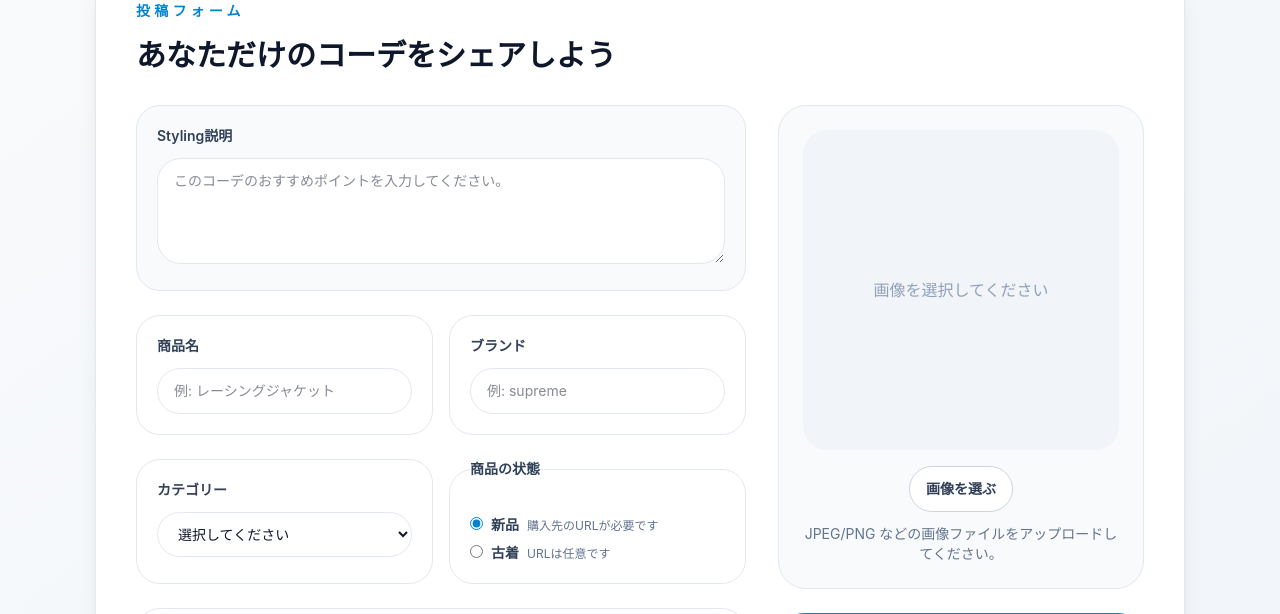
Test: ItemUpload の商品追加 › 古着はURLが無くても追加できる
Type "ヴィンテージT" into the field labelled "商品名" at [284, 391], box [157,368,412,414]
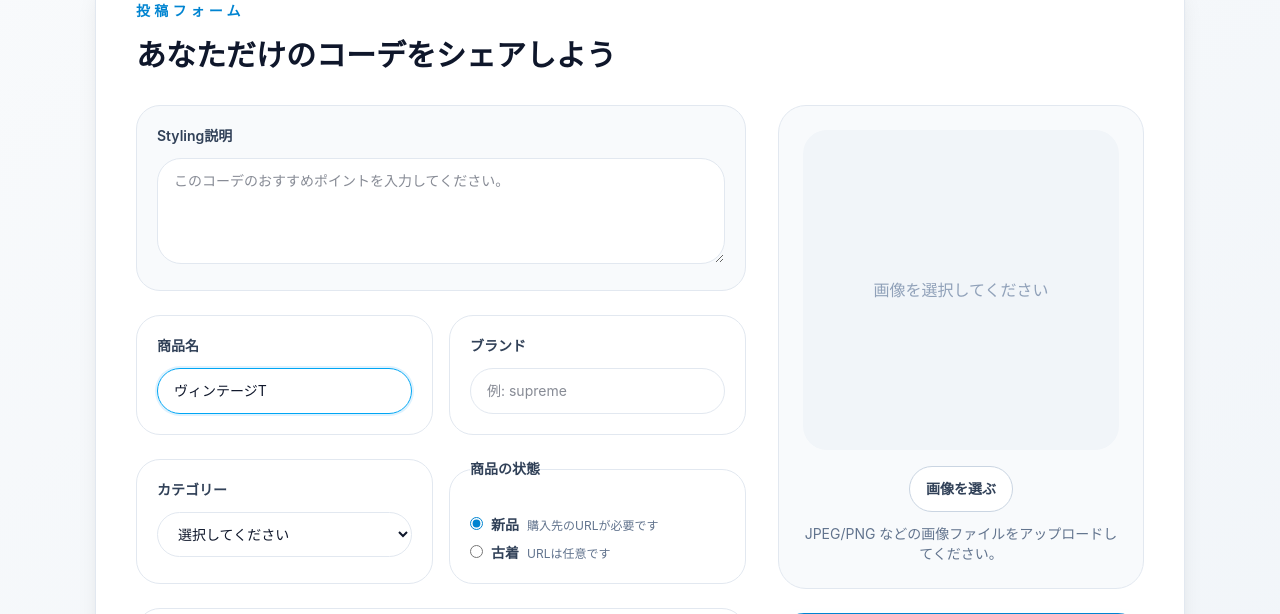
Type "MyBrand" into the field labelled "ブランド" at [598, 391], box [470,368,725,414]
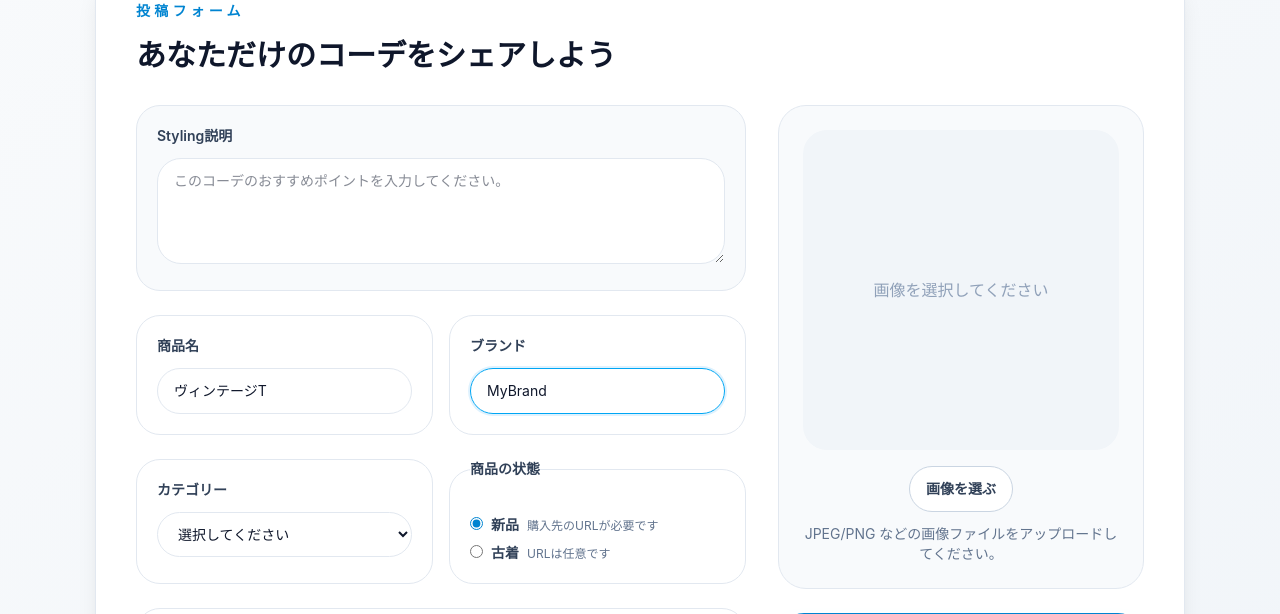
Select "トップス" in the dropdown labelled "カテゴリー" at [284, 534], box [157,512,412,557]
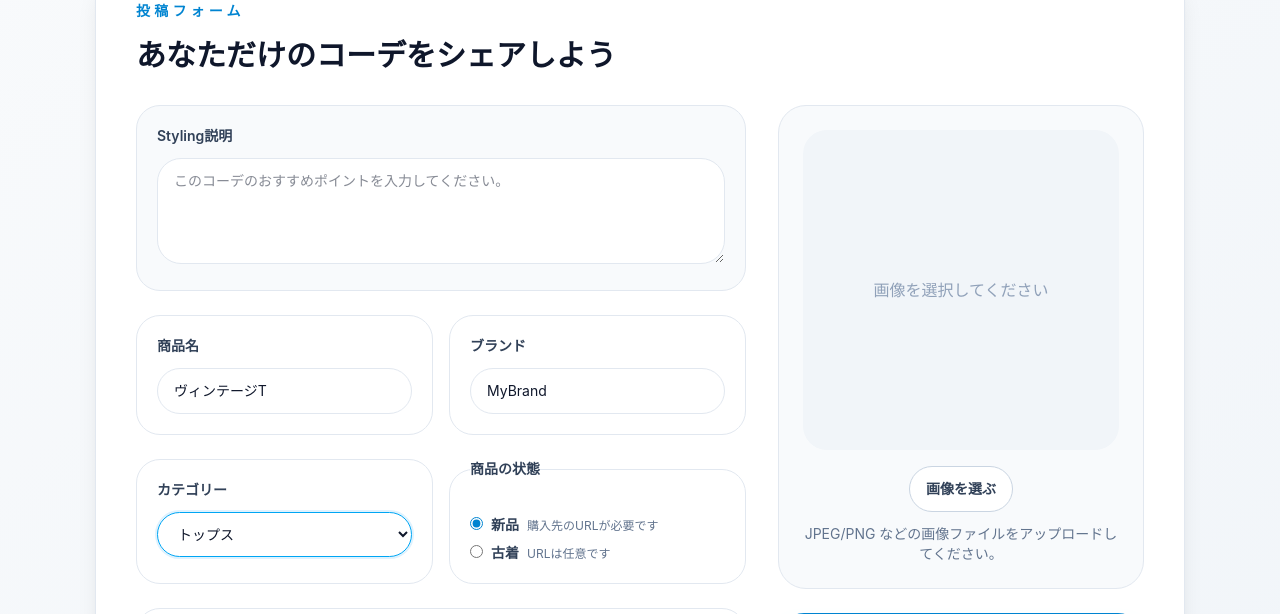
Click the radio button labelled "古着 URLは任意です" at [476, 552], box [470,545,483,558]
(page scrolled)
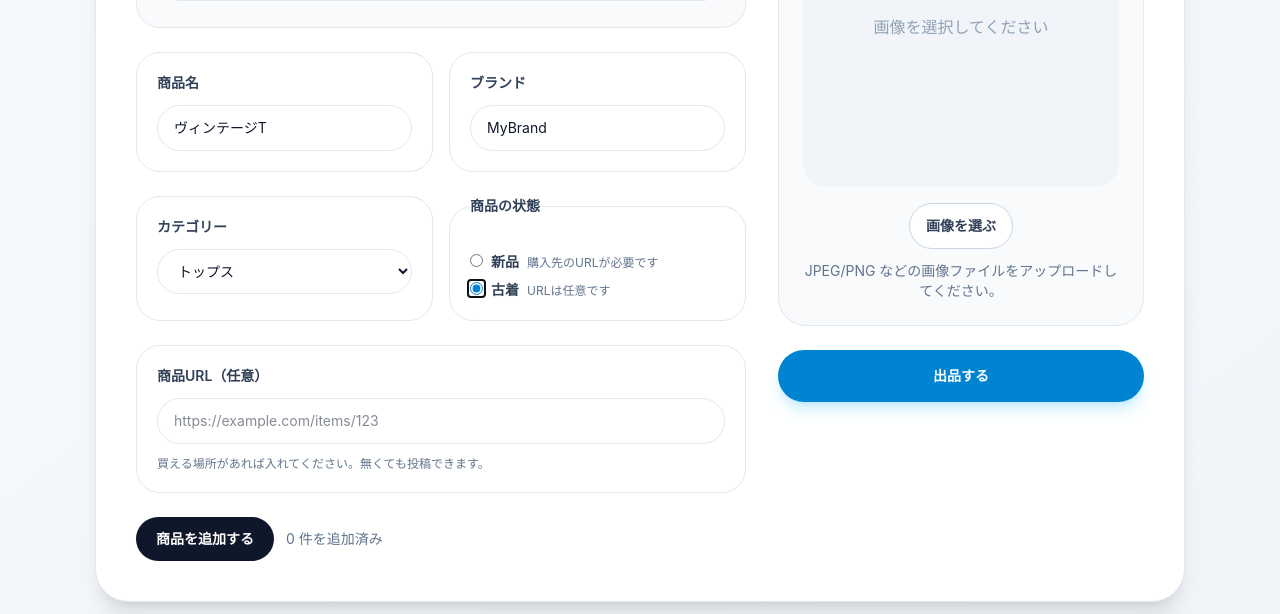
Click the button "商品を追加する" at [205, 539], box [136,517,274,561]
(page scrolled)
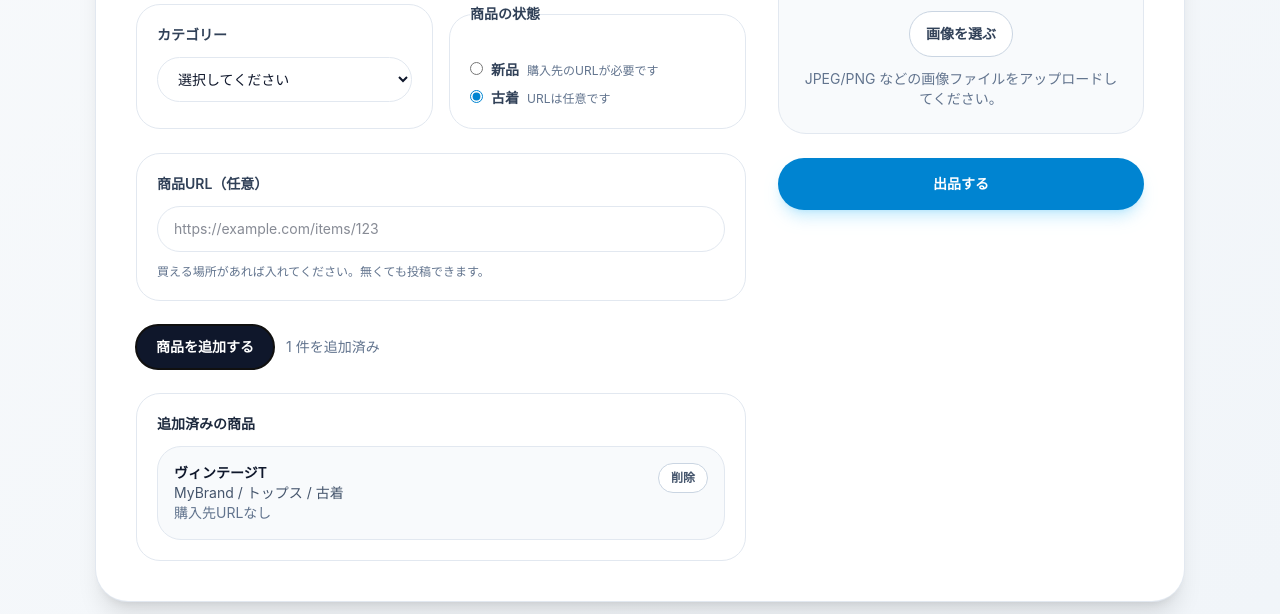
Result: the text "1 件を追加済み" is shown at [286,337,380,357]
Result: the text "購入先URLなし" is shown at [174,504,271,521]
